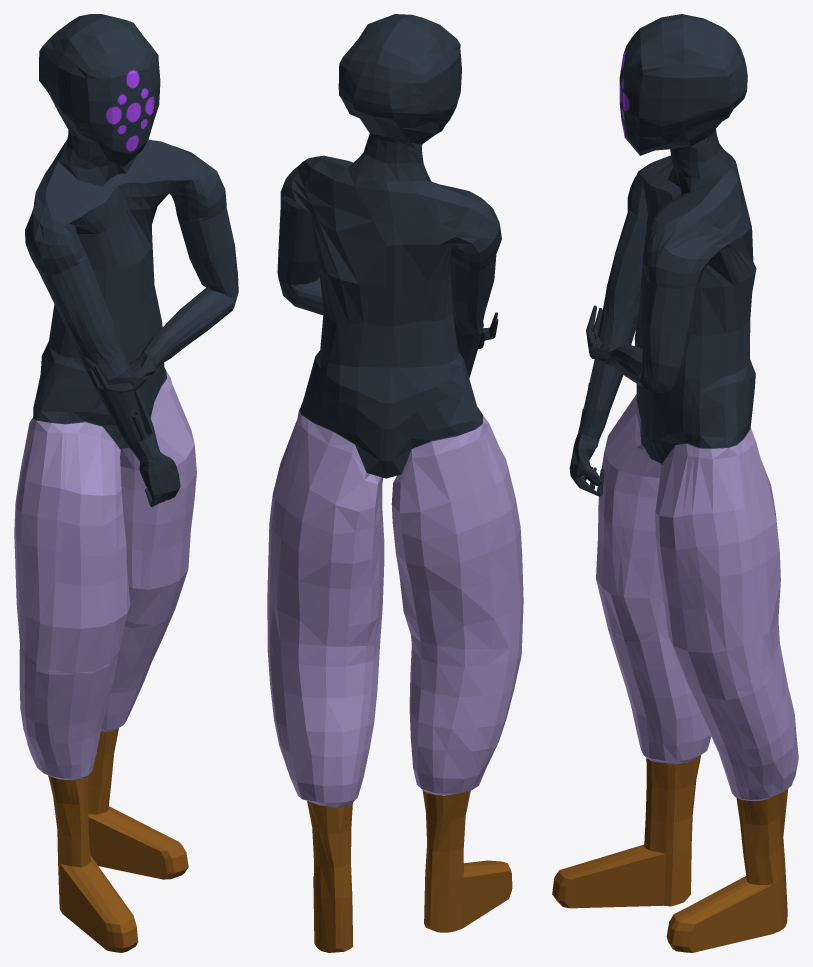
The model's file is Oracle_Reload_000013.obj.
3 views of the same model, side by side, from view 1: azimuth 30°, elevation 25°; view 2: azimuth 150°, elevation 25°; view 3: azimuth 270°, elevation 25° (orthographic). The views are drawn at different scales.
Visible parts, largest first — view 1: Cube; view 2: Cube; view 3: Cube.
Boxes of the visible parts, box(x1,y1,x2,y2) form: Cube: box(14, 14, 238, 952); Cube: box(267, 14, 523, 952); Cube: box(552, 14, 798, 952).
Bounding box in the file's own units: 1.04 × 3.94 × 0.9762.
